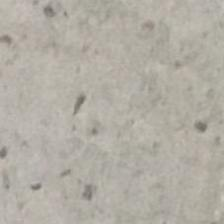Non_Crack: (27, 28, 197, 203)
